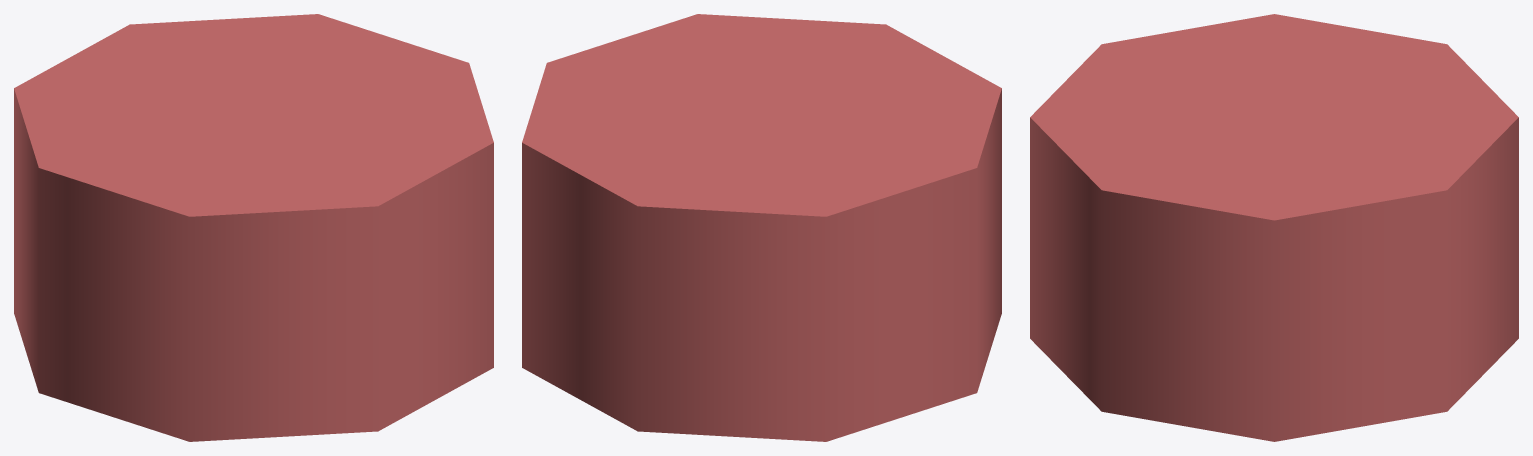
The picture shows the model from 3 angles, left to right: view 1: azimuth 30°, elevation 25°; view 2: azimuth 150°, elevation 25°; view 3: azimuth 270°, elevation 25°; orthographic projection.
Parts seen in each view (by area): view 1: Cylinder; view 2: Cylinder; view 3: Cylinder.
Part boxes in pixels (bbox=[...]): Cylinder: bbox=[14, 14, 493, 441]; Cylinder: bbox=[522, 14, 1001, 441]; Cylinder: bbox=[1030, 14, 1518, 441].
Size of the model in its own units: 2 by 1 by 2.
